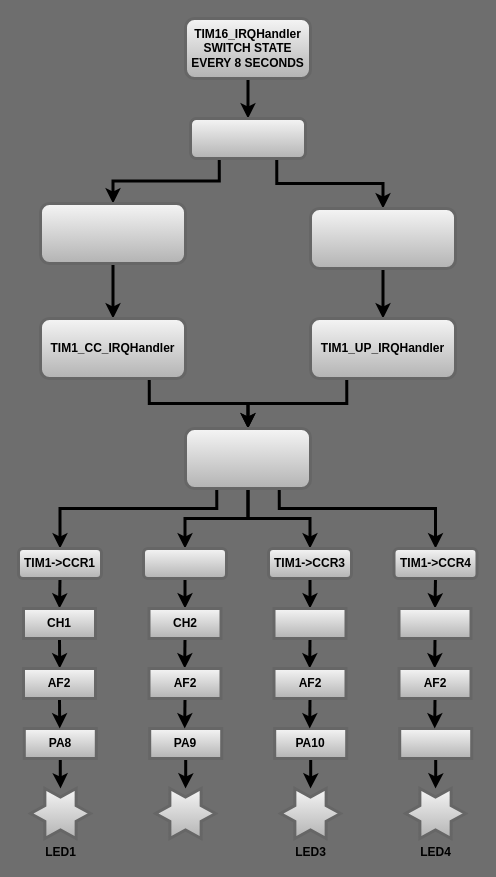
This 496x877 diagram has some shape labels left out. The shapes that lost their labels are listed below. From the top down, each one's centre as x and y in pixels, then its label:
At (247,138): "current_led_mode".
At (112,233): "MODE TOGGLE".
At (382,238): "MODE PWM".
At (248,458): "Update TIM1 CCRx".
At (185,563): "TIM1->CCR2".
At (309,623): "CH3".
At (434,623): "CH4".
At (435,743): "PA11".
At (185,813): "LED2".
